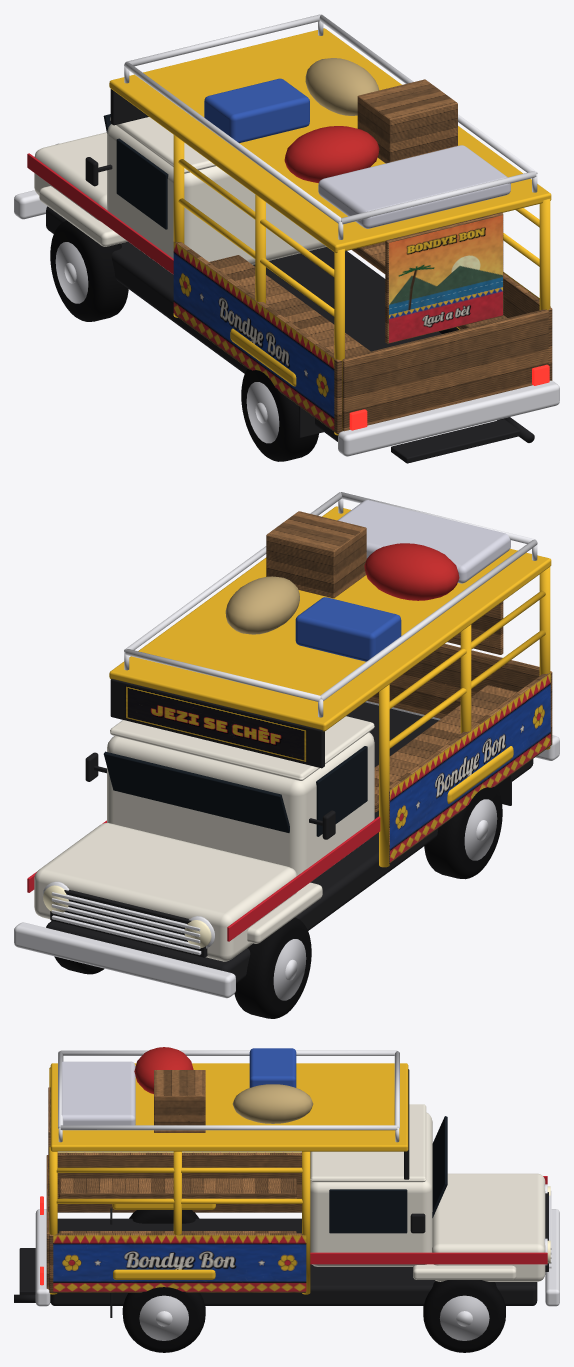
Rendered from TapTap.fbx.
3 views of the same model, one above another, from view 1: azimuth 30°, elevation 25°; view 2: azimuth 150°, elevation 25°; view 3: azimuth 270°, elevation 25° (orthographic). The views are drawn at different scales.
Parts seen in each view (by area): view 1: TapTap, Wheel_FL, Wheel_RL; view 2: TapTap, Wheel_FL, Wheel_RL; view 3: TapTap, Wheel_FR, Wheel_RR, Wheel_RL.
Part boxes in pixels (left/top/right/bottom): TapTap: left=14, top=14, right=559, bottom=463; Wheel_FL: left=50, top=220, right=128, bottom=321; Wheel_RL: left=241, top=368, right=318, bottom=461; TapTap: left=14, top=492, right=559, bottom=998; Wheel_FL: left=234, top=917, right=311, bottom=1018; Wheel_RL: left=424, top=786, right=502, bottom=879; TapTap: left=14, top=1047, right=559, bottom=1317; Wheel_FR: left=423, top=1280, right=505, bottom=1352; Wheel_RR: left=122, top=1287, right=205, bottom=1352; Wheel_RL: left=129, top=1210, right=199, bottom=1223.
Bounding box in the file's own units: 2.13 × 2.65 × 5.27.
